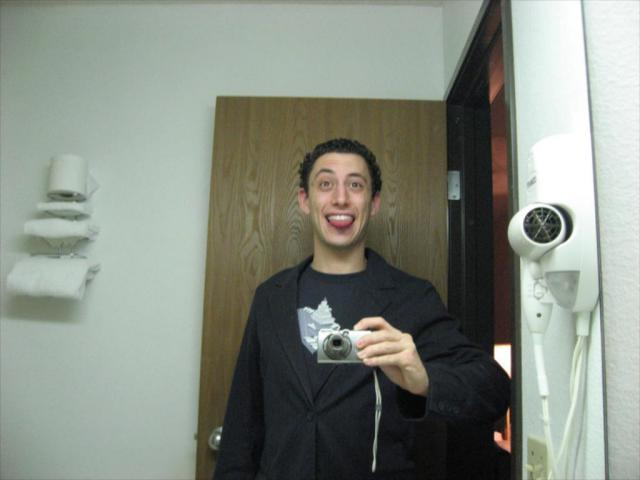Door-handle: (210, 426, 223, 452)
